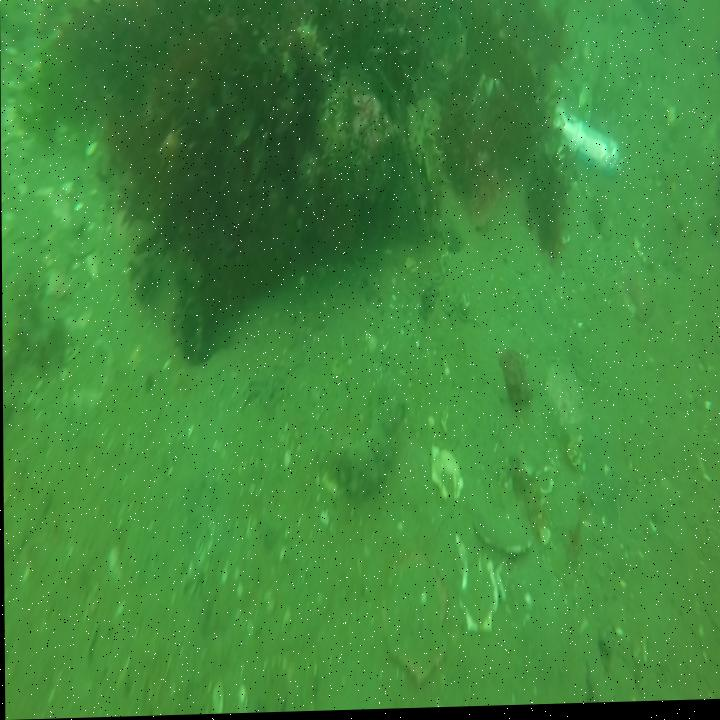holothurian: (324, 383, 402, 495), (281, 24, 346, 157), (408, 94, 451, 218)
scallop: (380, 554, 447, 684), (468, 484, 536, 558)
